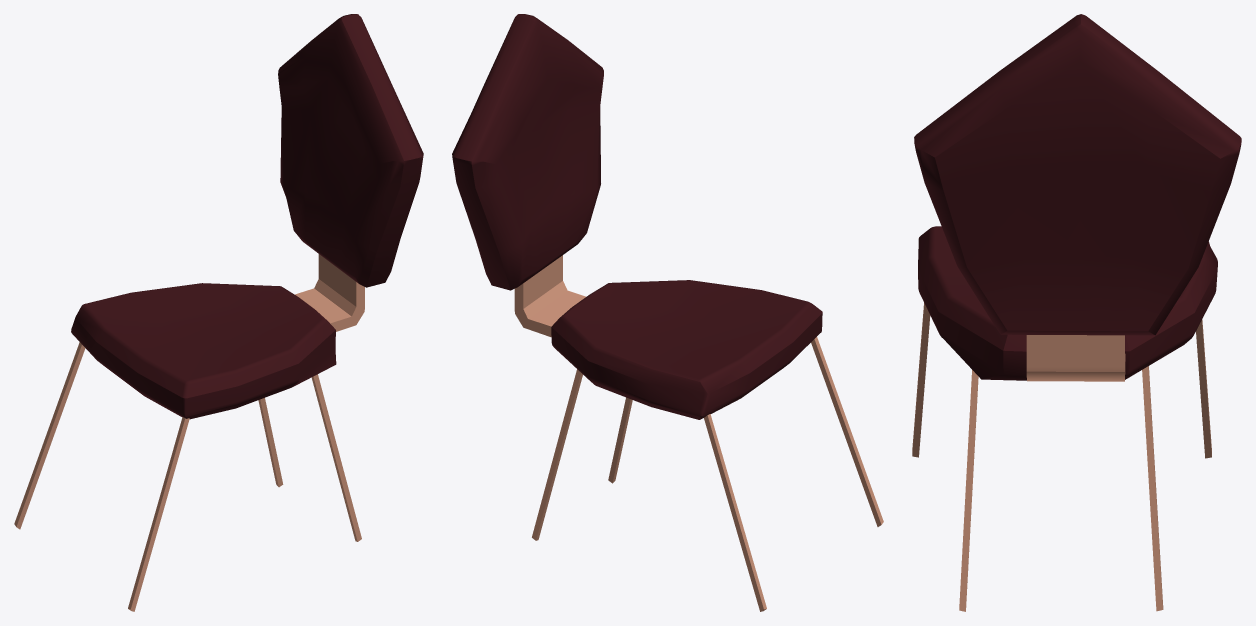
Rendered from stoel_nieuwestijl.fbx.
3 views of the same model, side by side, from view 1: azimuth 30°, elevation 25°; view 2: azimuth 150°, elevation 25°; view 3: azimuth 270°, elevation 25° (orthographic). The views are drawn at different scales.
Visible parts, largest first — view 1: polySurface86; view 2: polySurface86; view 3: polySurface86.
Boxes of the visible parts, left/top/right/bottom form: polySurface86: left=14, top=14, right=423, bottom=611; polySurface86: left=452, top=14, right=883, bottom=611; polySurface86: left=912, top=14, right=1241, bottom=611.
Bounding box in the file's own units: 1.3 × 1.98 × 0.9571.
